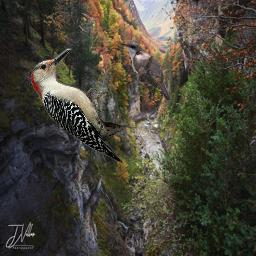Cuckoo: (119, 40, 171, 102)
Woodpecker: (30, 48, 130, 163)
